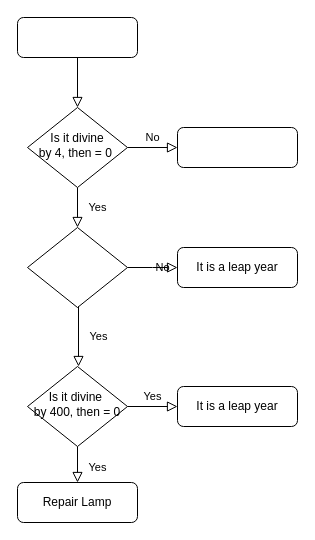
Some shapes in this 315 by 540 pixel diagram are drawn without their labels. Here are the shapes that lost their labels. From the top down, the centre of each, then its label:
point (77, 37): Start
point (237, 147): No leap year
point (77, 267): Is it divine by 100, then = 0
